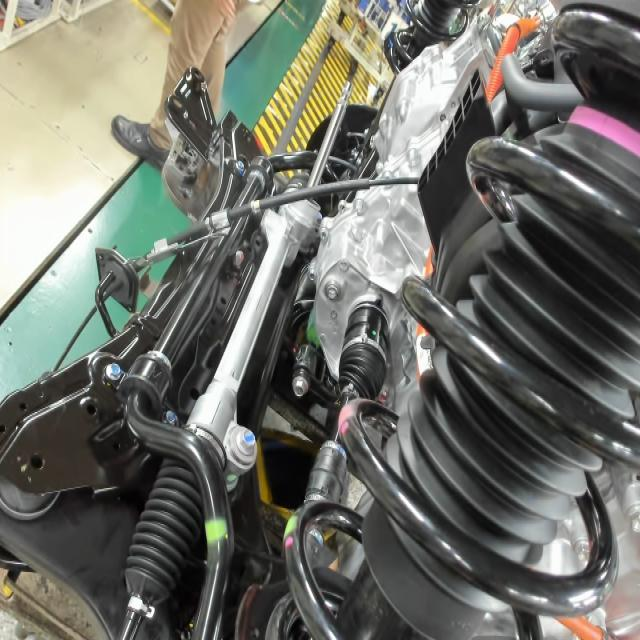Bar Stabilizer-HJ: (202, 513, 231, 546)
Bumper-PK: (565, 88, 640, 163)
